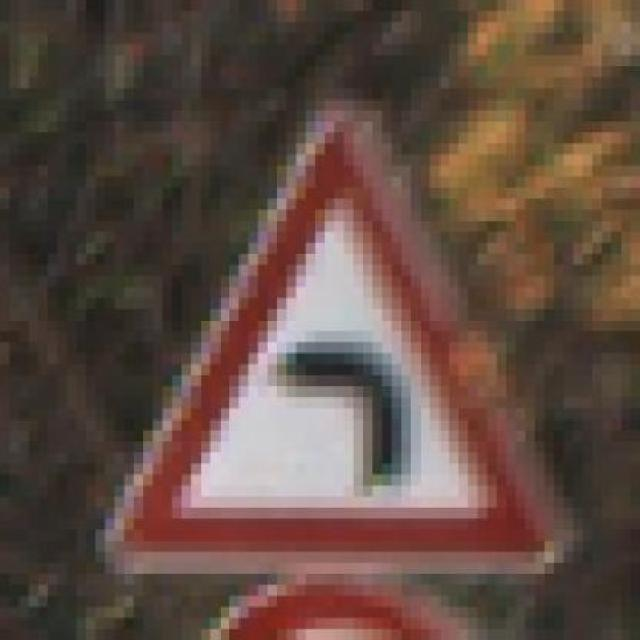Dangerous Left Curve Ahead: (95, 89, 583, 586)
